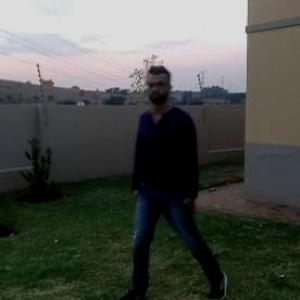follow: (137, 73, 202, 264)
